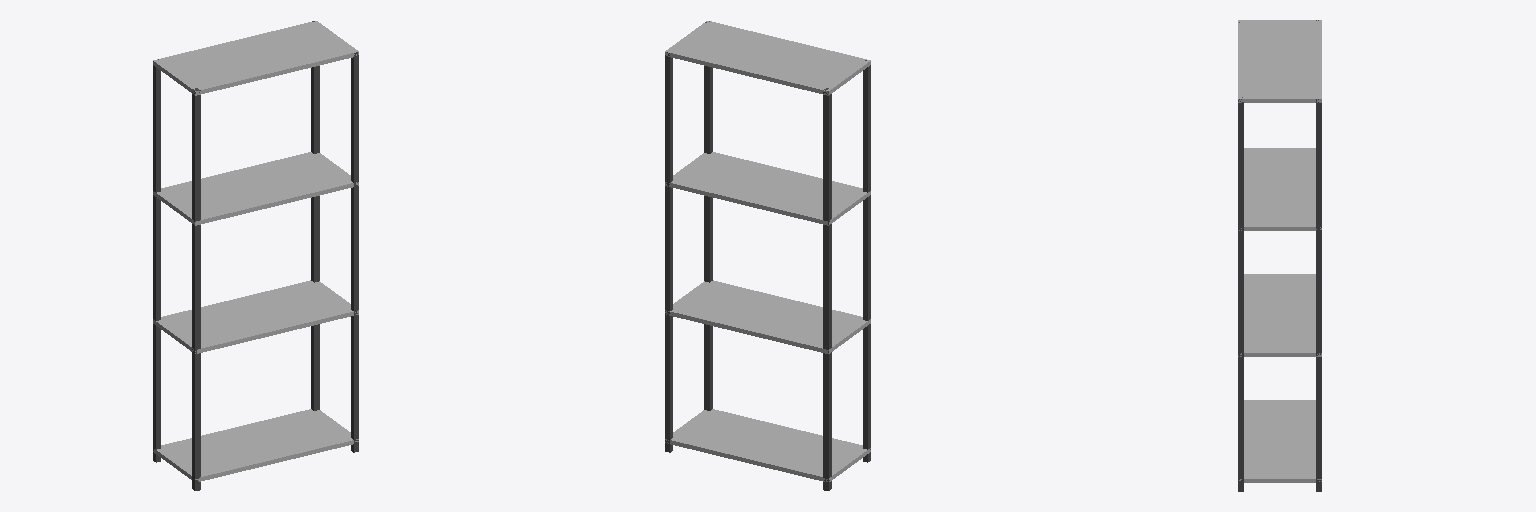
robot.urdf — high_shelf:
<?xml version="1.0"?>
<robot name="high_shelf">
  <!-- Outer size target: width=0.60, depth=0.27, height=1.40 -->

  <material name="ShelfMetalLight">
    <color rgba="0.72 0.72 0.72 1.0"/>
  </material>

  <material name="ShelfMetalDark">
    <color rgba="0.35 0.35 0.35 1.0"/>
  </material>

  <link name="base_link">
    <inertial>
      <origin xyz="0 0 0" rpy="0 0 0"/>
      <mass value="0.1"/>
      <inertia ixx="1e-4" ixy="0" ixz="0" iyy="1e-4" iyz="0" izz="1e-4"/>
    </inertial>
  </link>

  <!-- Shelf board 1 -->
  <link name="shelf_1">
    <inertial>
      <origin xyz="0 0 0" rpy="0 0 0"/>
      <mass value="1.2"/>
      <inertia ixx="0.01" ixy="0" ixz="0" iyy="0.01" iyz="0" izz="0.01"/>
    </inertial>
    <visual>
      <origin xyz="0 0 0" rpy="0 0 0"/>
      <geometry><box size="0.60 0.27 0.015"/></geometry>
      <material name="ShelfMetalLight"/>
    </visual>
    <collision>
      <origin xyz="0 0 0" rpy="0 0 0"/>
      <geometry><box size="0.60 0.27 0.015"/></geometry>
    </collision>
  </link>
  <joint name="shelf_1_joint" type="fixed">
    <parent link="base_link"/>
    <child link="shelf_1"/>
    <origin xyz="0 0 0.0375" rpy="0 0 0"/>
  </joint>

  <!-- Shelf board 2 -->
  <link name="shelf_2">
    <inertial>
      <origin xyz="0 0 0" rpy="0 0 0"/>
      <mass value="1.2"/>
      <inertia ixx="0.01" ixy="0" ixz="0" iyy="0.01" iyz="0" izz="0.01"/>
    </inertial>
    <visual>
      <origin xyz="0 0 0" rpy="0 0 0"/>
      <geometry><box size="0.60 0.27 0.015"/></geometry>
      <material name="ShelfMetalLight"/>
    </visual>
    <collision>
      <origin xyz="0 0 0" rpy="0 0 0"/>
      <geometry><box size="0.60 0.27 0.015"/></geometry>
    </collision>
  </link>
  <joint name="shelf_2_joint" type="fixed">
    <parent link="base_link"/>
    <child link="shelf_2"/>
    <origin xyz="0 0 0.4875" rpy="0 0 0"/>
  </joint>

  <!-- Shelf board 3 -->
  <link name="shelf_3">
    <inertial>
      <origin xyz="0 0 0" rpy="0 0 0"/>
      <mass value="1.2"/>
      <inertia ixx="0.01" ixy="0" ixz="0" iyy="0.01" iyz="0" izz="0.01"/>
    </inertial>
    <visual>
      <origin xyz="0 0 0" rpy="0 0 0"/>
      <geometry><box size="0.60 0.27 0.015"/></geometry>
      <material name="ShelfMetalLight"/>
    </visual>
    <collision>
      <origin xyz="0 0 0" rpy="0 0 0"/>
      <geometry><box size="0.60 0.27 0.015"/></geometry>
    </collision>
  </link>
  <joint name="shelf_3_joint" type="fixed">
    <parent link="base_link"/>
    <child link="shelf_3"/>
    <origin xyz="0 0 0.9375" rpy="0 0 0"/>
  </joint>

  <!-- Shelf board 4 (top) -->
  <link name="shelf_4">
    <inertial>
      <origin xyz="0 0 0" rpy="0 0 0"/>
      <mass value="1.2"/>
      <inertia ixx="0.01" ixy="0" ixz="0" iyy="0.01" iyz="0" izz="0.01"/>
    </inertial>
    <visual>
      <origin xyz="0 0 0" rpy="0 0 0"/>
      <geometry><box size="0.60 0.27 0.015"/></geometry>
      <material name="ShelfMetalLight"/>
    </visual>
    <collision>
      <origin xyz="0 0 0" rpy="0 0 0"/>
      <geometry><box size="0.60 0.27 0.015"/></geometry>
    </collision>
  </link>
  <joint name="shelf_4_joint" type="fixed">
    <parent link="base_link"/>
    <child link="shelf_4"/>
    <origin xyz="0 0 1.3925" rpy="0 0 0"/>
  </joint>

  <!-- Legs -->
  <link name="leg_fl">
    <inertial>
      <origin xyz="0 0 0" rpy="0 0 0"/>
      <mass value="0.8"/>
      <inertia ixx="0.002" ixy="0" ixz="0" iyy="0.002" iyz="0" izz="0.002"/>
    </inertial>
    <visual>
      <origin xyz="0 0 0" rpy="0 0 0"/>
      <geometry><box size="0.02 0.02 1.40"/></geometry>
      <material name="ShelfMetalDark"/>
    </visual>
    <collision>
      <origin xyz="0 0 0" rpy="0 0 0"/>
      <geometry><box size="0.02 0.02 1.40"/></geometry>
    </collision>
  </link>
  <joint name="leg_fl_joint" type="fixed">
    <parent link="base_link"/>
    <child link="leg_fl"/>
    <origin xyz="0.29 0.125 0.70" rpy="0 0 0"/>
  </joint>

  <link name="leg_fr">
    <inertial>
      <origin xyz="0 0 0" rpy="0 0 0"/>
      <mass value="0.8"/>
      <inertia ixx="0.002" ixy="0" ixz="0" iyy="0.002" iyz="0" izz="0.002"/>
    </inertial>
    <visual>
      <origin xyz="0 0 0" rpy="0 0 0"/>
      <geometry><box size="0.02 0.02 1.40"/></geometry>
      <material name="ShelfMetalDark"/>
    </visual>
    <collision>
      <origin xyz="0 0 0" rpy="0 0 0"/>
      <geometry><box size="0.02 0.02 1.40"/></geometry>
    </collision>
  </link>
  <joint name="leg_fr_joint" type="fixed">
    <parent link="base_link"/>
    <child link="leg_fr"/>
    <origin xyz="0.29 -0.125 0.70" rpy="0 0 0"/>
  </joint>

  <link name="leg_rl">
    <inertial>
      <origin xyz="0 0 0" rpy="0 0 0"/>
      <mass value="0.8"/>
      <inertia ixx="0.002" ixy="0" ixz="0" iyy="0.002" iyz="0" izz="0.002"/>
    </inertial>
    <visual>
      <origin xyz="0 0 0" rpy="0 0 0"/>
      <geometry><box size="0.02 0.02 1.40"/></geometry>
      <material name="ShelfMetalDark"/>
    </visual>
    <collision>
      <origin xyz="0 0 0" rpy="0 0 0"/>
      <geometry><box size="0.02 0.02 1.40"/></geometry>
    </collision>
  </link>
  <joint name="leg_rl_joint" type="fixed">
    <parent link="base_link"/>
    <child link="leg_rl"/>
    <origin xyz="-0.29 0.125 0.70" rpy="0 0 0"/>
  </joint>

  <link name="leg_rr">
    <inertial>
      <origin xyz="0 0 0" rpy="0 0 0"/>
      <mass value="0.8"/>
      <inertia ixx="0.002" ixy="0" ixz="0" iyy="0.002" iyz="0" izz="0.002"/>
    </inertial>
    <visual>
      <origin xyz="0 0 0" rpy="0 0 0"/>
      <geometry><box size="0.02 0.02 1.40"/></geometry>
      <material name="ShelfMetalDark"/>
    </visual>
    <collision>
      <origin xyz="0 0 0" rpy="0 0 0"/>
      <geometry><box size="0.02 0.02 1.40"/></geometry>
    </collision>
  </link>
  <joint name="leg_rr_joint" type="fixed">
    <parent link="base_link"/>
    <child link="leg_rr"/>
    <origin xyz="-0.29 -0.125 0.70" rpy="0 0 0"/>
  </joint>

</robot>

--- Render facts (derived) ---
3 views of the same robot in one strip: view 1: azimuth 30°, elevation 25°; view 2: azimuth 150°, elevation 25°; view 3: azimuth 270°, elevation 25° (orthographic).
Model high_shelf with 9 links and 8 joints (8 fixed), rooted at base_link, posed all joints at 0.
Links seen in each view (by area): view 1: shelf_4, shelf_3, shelf_2, shelf_1, leg_rr, leg_fr, leg_rl, leg_fl; view 2: shelf_4, shelf_2, shelf_3, shelf_1, leg_rl, leg_fl, leg_rr, leg_fr; view 3: shelf_4, shelf_2, shelf_1, shelf_3, leg_fr, leg_fl.
Link boxes in pixels (box(x1,y1,x2,y2)): shelf_4: box(153, 21, 358, 95); shelf_3: box(153, 152, 358, 225); shelf_2: box(153, 280, 358, 353); shelf_1: box(153, 409, 358, 481); leg_rr: box(192, 88, 200, 490); leg_fr: box(351, 52, 358, 452); leg_rl: box(153, 59, 160, 462); leg_fl: box(311, 21, 319, 410); shelf_4: box(665, 21, 870, 95); shelf_2: box(665, 280, 870, 353); shelf_3: box(665, 152, 870, 225); shelf_1: box(665, 409, 870, 481); leg_rl: box(823, 88, 831, 490); leg_fl: box(665, 52, 672, 452); leg_rr: box(863, 60, 870, 462); leg_fr: box(704, 21, 712, 410); shelf_4: box(1238, 20, 1321, 102); shelf_2: box(1238, 274, 1321, 356); shelf_1: box(1239, 400, 1321, 482); shelf_3: box(1239, 148, 1321, 230); leg_fr: box(1238, 97, 1243, 491); leg_fl: box(1316, 99, 1321, 491).
Size in the robot's own frame: 0.6 by 0.27 by 1.4 metres.
Geometry: primitives only (box / cylinder / sphere), no mesh files.
